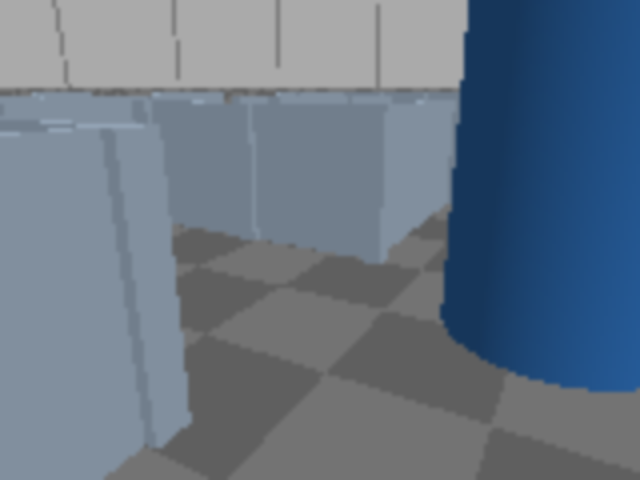person: (444, 0, 638, 381)
